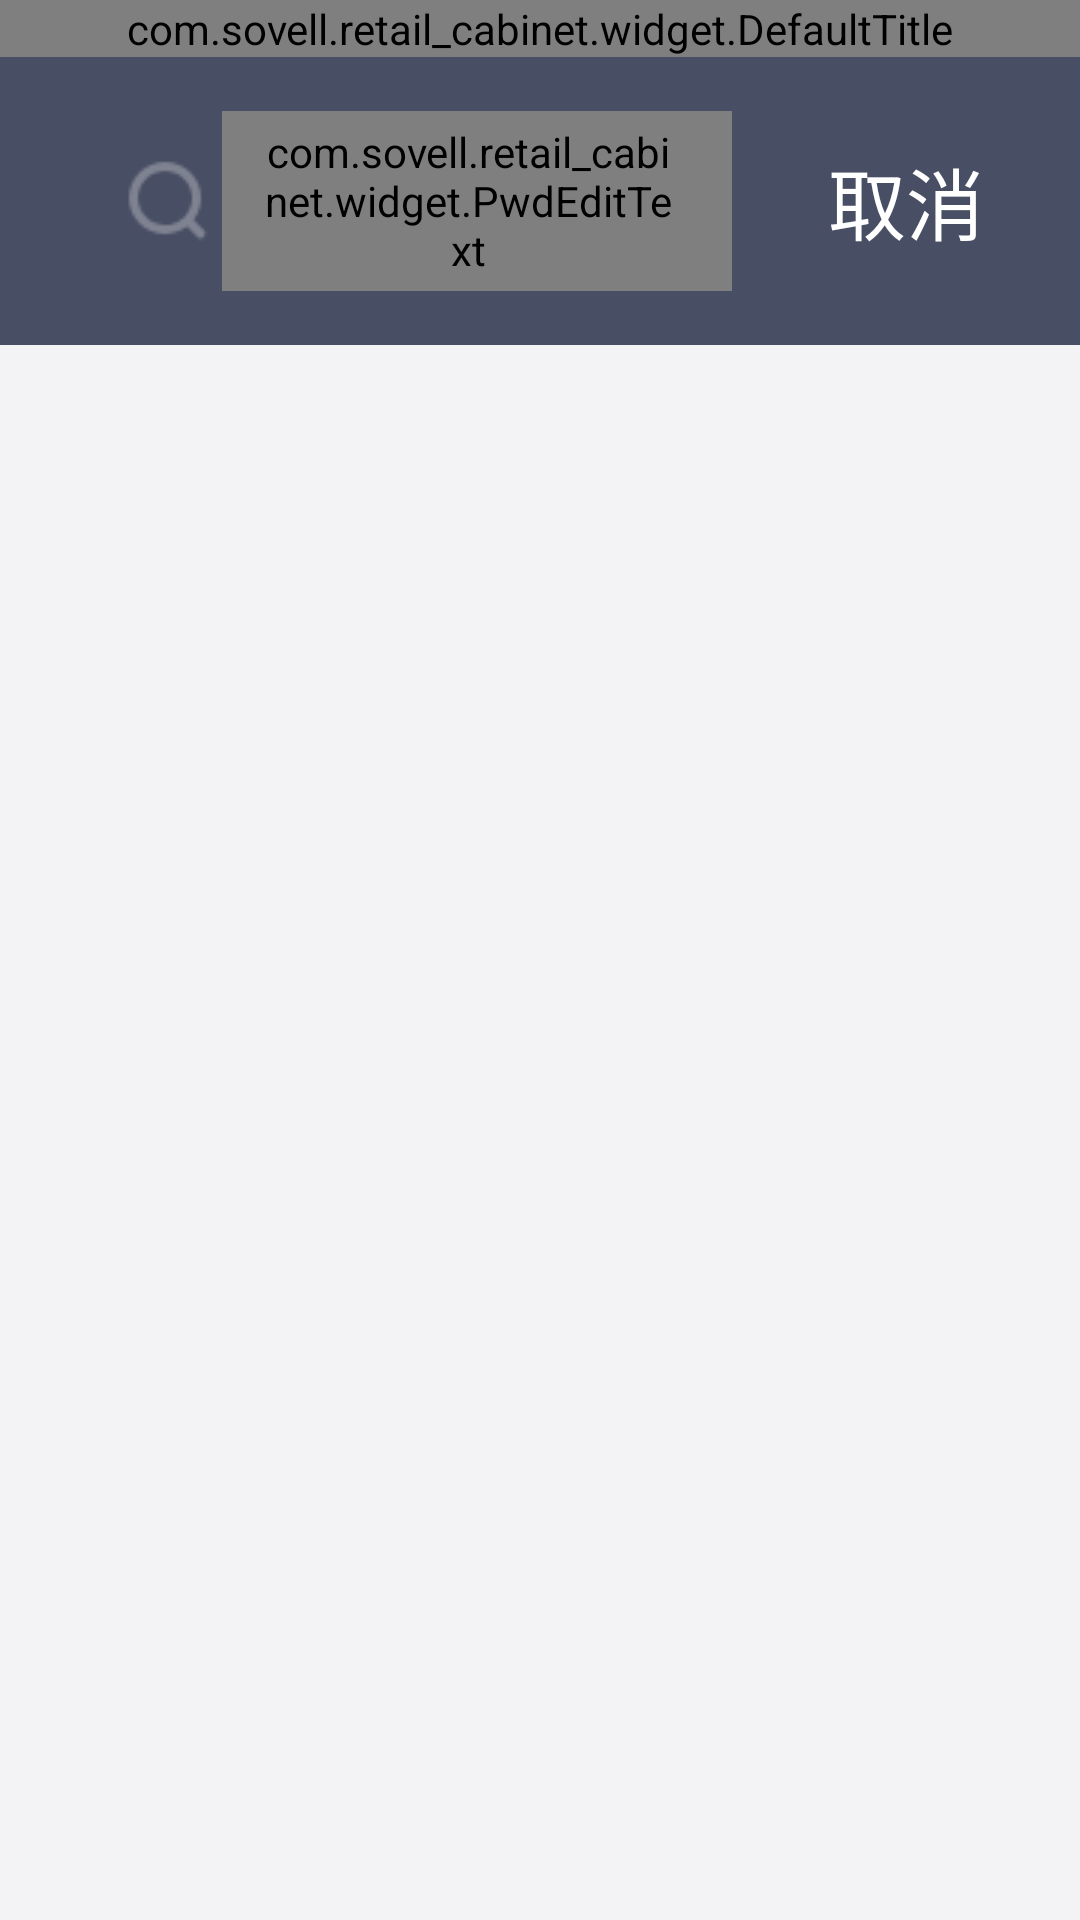

Screen size 1080×1920. Icon name, then its box in pixels as detection(x1, y1, x2, y2):
search: detection(129, 162, 205, 238)
